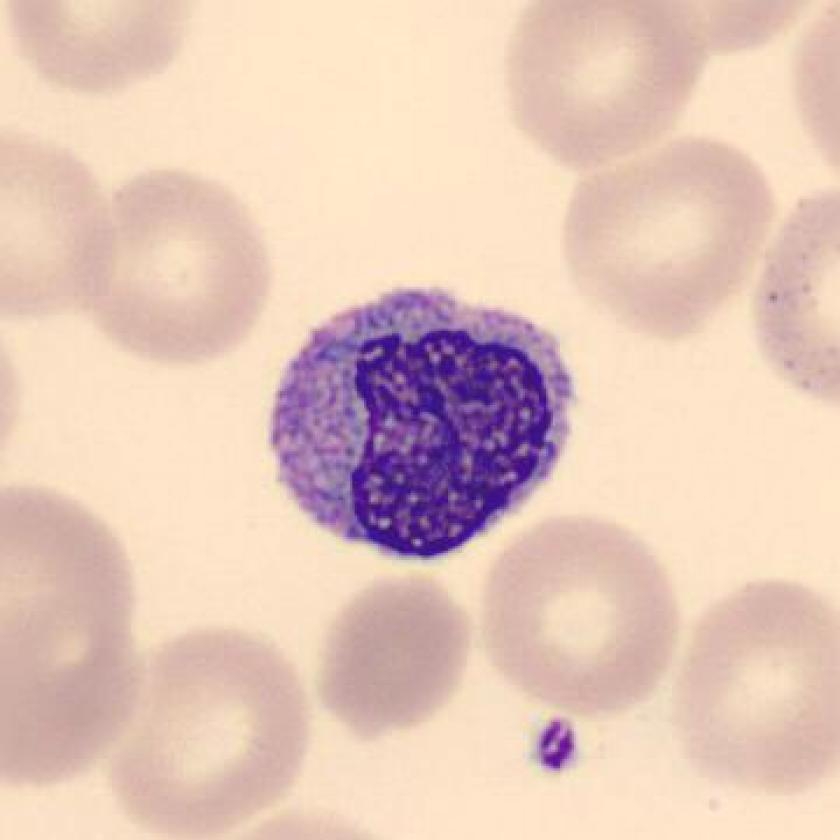monocyte: (251, 258, 598, 584)
